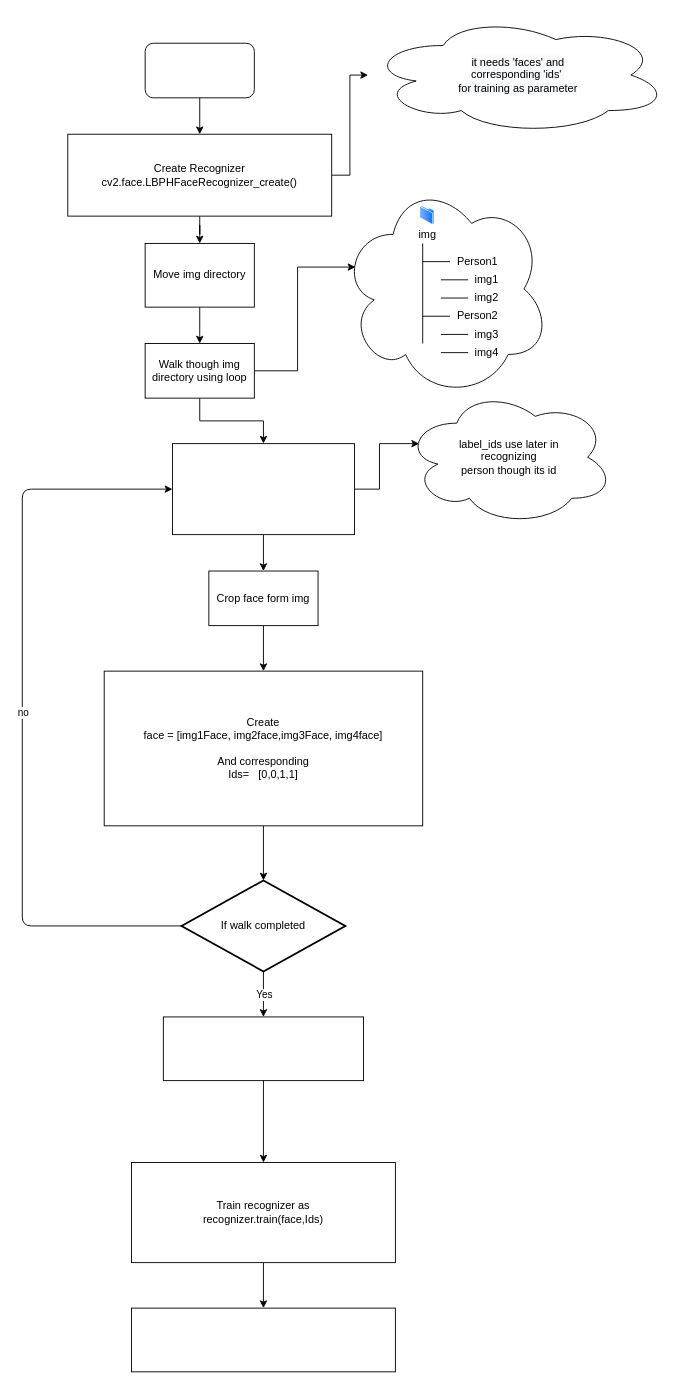
This 684x1388 diagram has some shape labels left out. Each missing label, with the centre of its shape:
Create label_ids = {label : id} {Person1 : 0, Person2 : 1}: the point at 263,489
Save label_ids dictionary: the point at 263,1048
Save Recognizer: the point at 263,1339
Start(training): the point at 199,70
